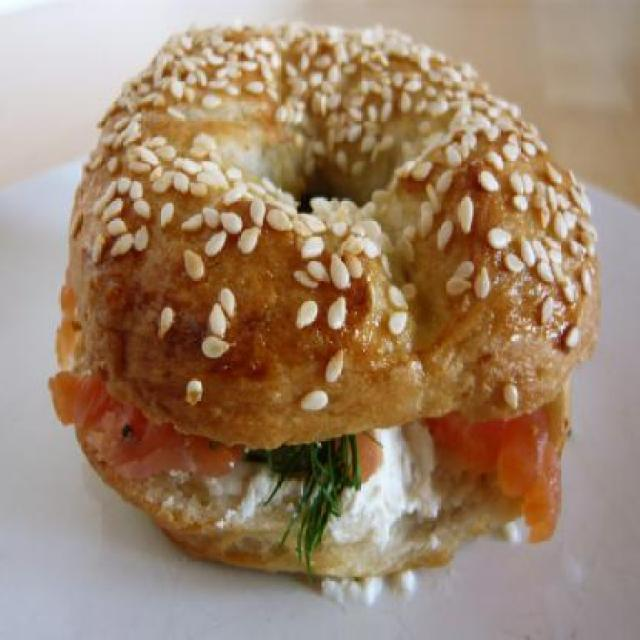Bagel: (47, 11, 602, 603)
